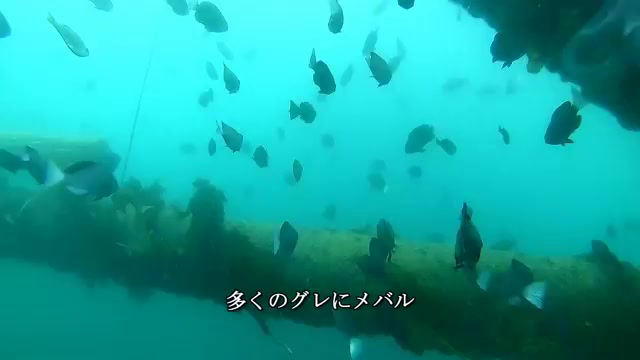smallfish: (303, 49, 357, 101), (46, 15, 100, 62), (539, 91, 581, 151), (189, 2, 241, 39), (402, 117, 442, 161), (355, 54, 400, 92), (216, 57, 255, 100), (218, 118, 259, 157), (329, 1, 365, 44), (285, 98, 326, 131), (287, 153, 306, 187)
